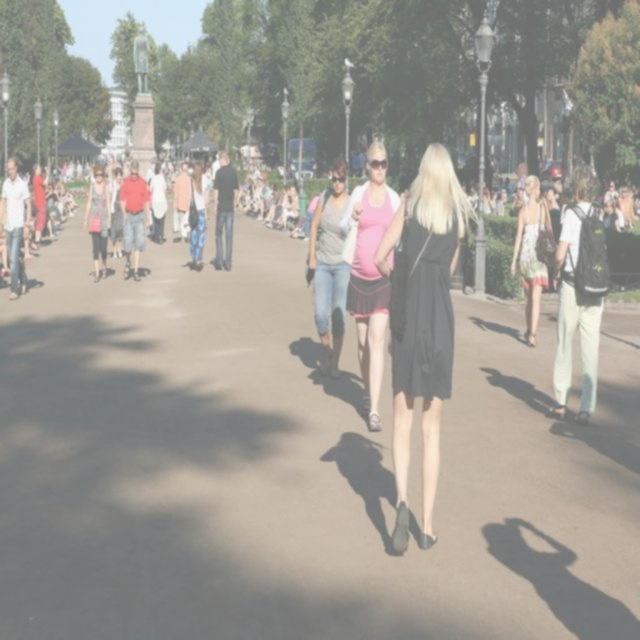pessoa: (460, 307, 640, 639), (370, 134, 482, 562), (280, 326, 428, 570), (337, 138, 404, 434), (544, 161, 610, 427), (448, 149, 640, 238), (304, 154, 354, 380), (0, 156, 81, 294), (506, 170, 560, 352), (230, 148, 320, 248), (0, 152, 34, 302), (117, 156, 151, 283), (81, 160, 112, 285), (212, 147, 242, 274), (80, 145, 134, 199), (186, 160, 211, 273), (151, 146, 195, 198), (171, 160, 196, 245), (146, 160, 170, 246), (28, 160, 51, 248), (146, 154, 166, 240), (132, 17, 154, 95), (108, 164, 124, 260), (262, 182, 288, 226), (279, 184, 300, 232), (256, 182, 280, 222), (240, 178, 259, 213), (233, 176, 253, 208), (240, 176, 254, 216), (211, 152, 221, 205), (205, 160, 213, 208), (357, 148, 367, 178), (351, 164, 368, 181), (259, 181, 272, 199), (61, 159, 70, 184), (321, 165, 334, 181), (351, 149, 358, 178), (76, 158, 84, 180), (84, 162, 92, 182), (68, 159, 74, 181), (207, 154, 214, 166), (202, 166, 207, 174)
